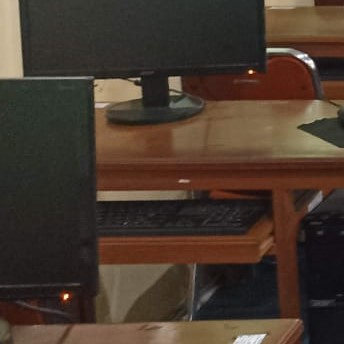monitor: (18, 0, 266, 124), (0, 77, 99, 320)
